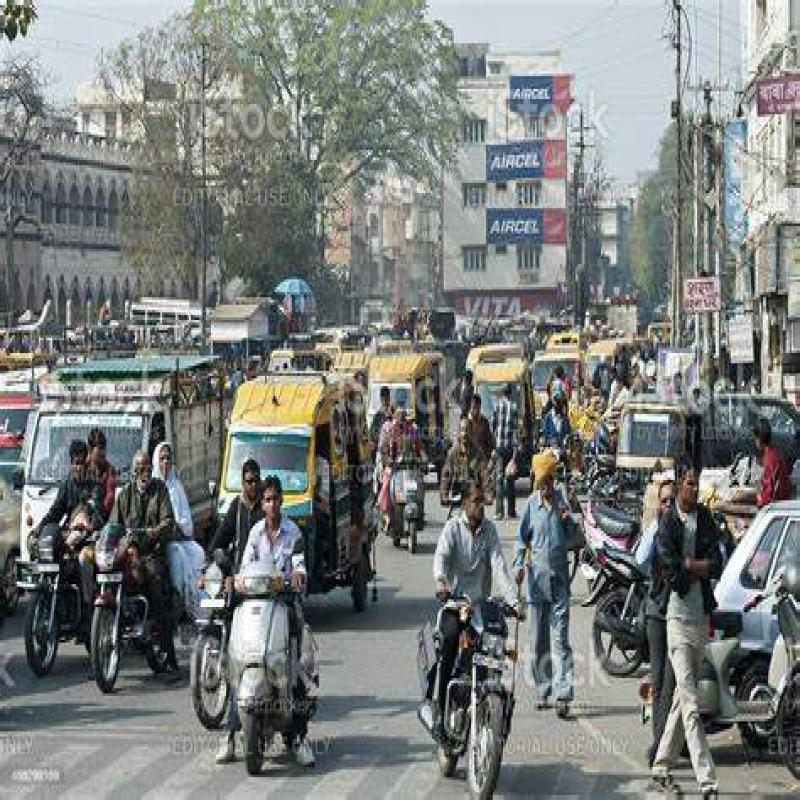bike: (429, 614, 530, 766), (227, 572, 300, 748), (85, 532, 154, 644)
